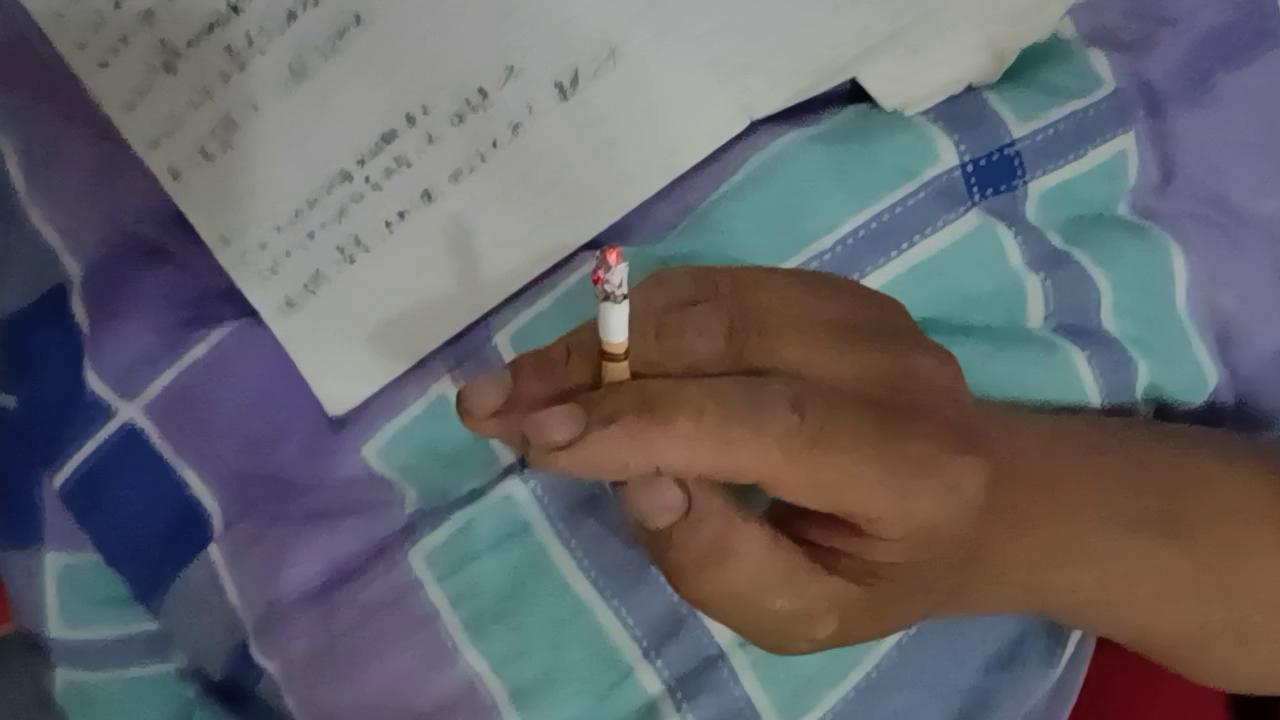smoke: (592, 241, 634, 421)
